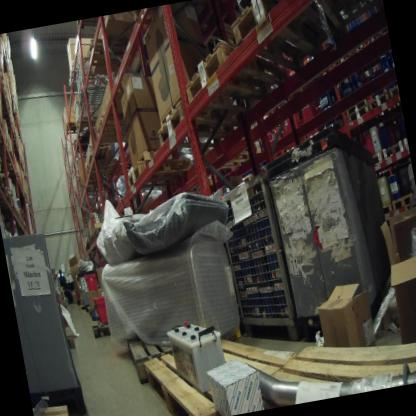pallet: (140, 306, 308, 416), (254, 317, 416, 409), (170, 17, 292, 122), (146, 76, 273, 158), (224, 0, 345, 81), (125, 325, 198, 389), (120, 145, 202, 194), (202, 128, 270, 181), (84, 25, 140, 77), (133, 136, 201, 173), (86, 109, 131, 150), (83, 308, 124, 345), (56, 315, 82, 361), (33, 393, 77, 416), (380, 133, 408, 167), (81, 154, 119, 178), (78, 172, 113, 196), (338, 91, 369, 118), (389, 189, 416, 218), (64, 59, 92, 85), (345, 106, 375, 130), (366, 90, 392, 117), (0, 134, 18, 169), (378, 199, 397, 224), (354, 32, 375, 54), (88, 215, 116, 231), (74, 111, 95, 131), (0, 188, 16, 213), (372, 20, 389, 43), (85, 299, 102, 322), (367, 149, 385, 170), (59, 119, 80, 137), (342, 40, 358, 62), (386, 77, 399, 101), (11, 206, 24, 229), (92, 224, 107, 240), (0, 156, 7, 189), (82, 237, 92, 256), (20, 217, 30, 233), (76, 294, 87, 308), (87, 231, 96, 248)
small_load_carrier: (91, 291, 116, 324), (83, 269, 102, 296)
stillage: (207, 166, 302, 355)
